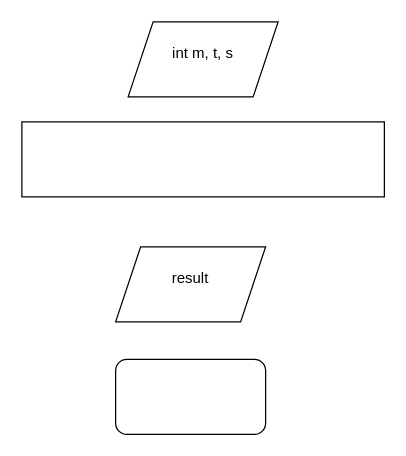
Some shapes in this 406 by 456 pixel diagram are drawn without their labels. Each missing label, with the centre of its shape:
float result result = ((s * t) / 1000) / (m / 60): point 202,159
Конец: point 190,396
